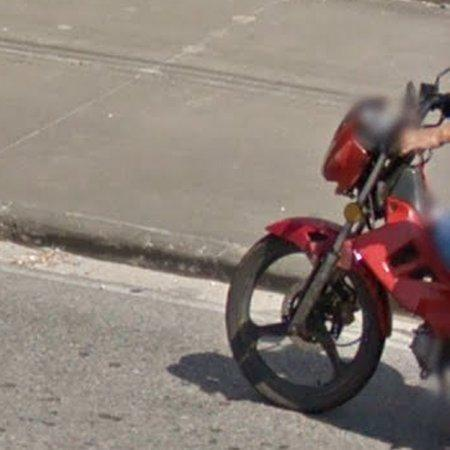motorcycles: (227, 68, 450, 414)
